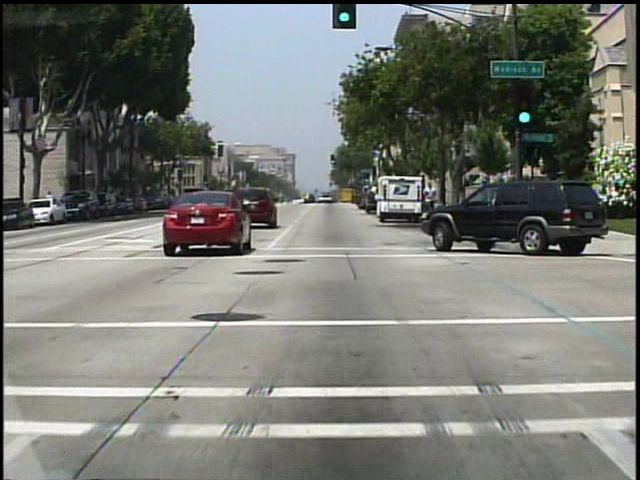person: (423, 182, 437, 212), (354, 185, 368, 213), (46, 188, 57, 212)
